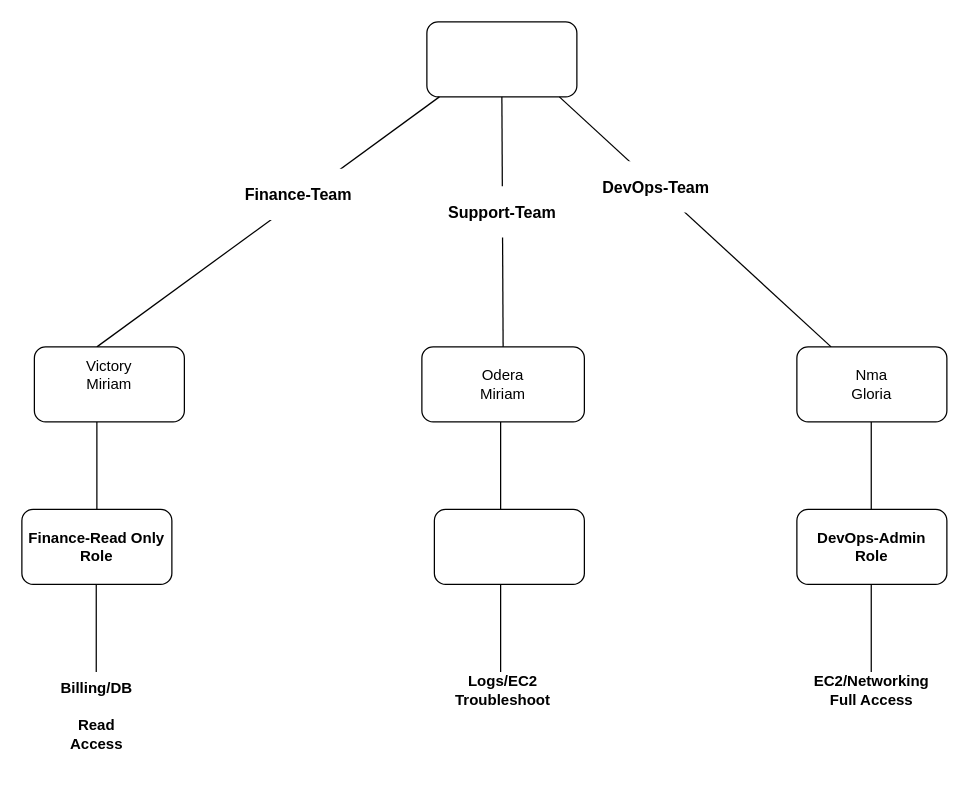
The diagram is 969 pixels wide and 794 high, and some of its shapes have lost their labels. Each missing label, with the centre of its shape:
"I AM Groups" belongs at [501,59].
"Support-Eng Role" belongs at [508,546].
